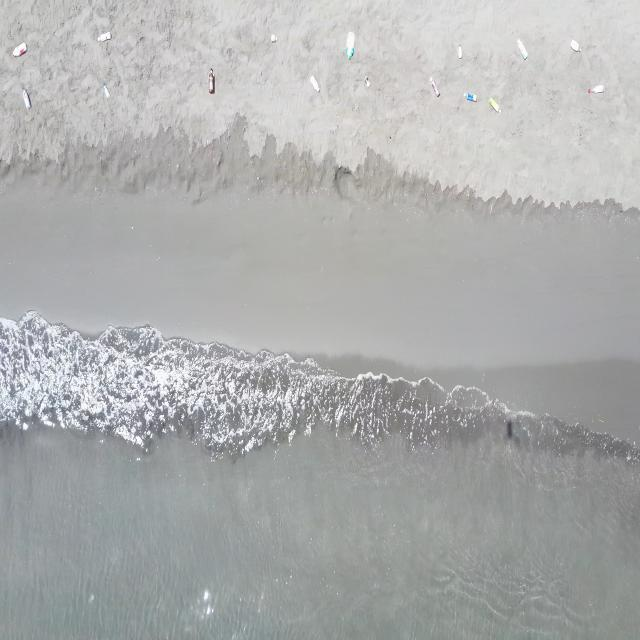Garbage: (517, 39, 527, 59), (346, 32, 353, 59), (12, 42, 26, 55), (308, 75, 319, 91), (487, 98, 500, 111), (431, 76, 439, 96), (23, 88, 30, 108), (587, 84, 603, 92), (207, 68, 212, 92), (569, 40, 579, 51), (464, 91, 476, 100), (96, 32, 110, 39), (456, 44, 462, 59), (103, 83, 108, 96), (364, 75, 368, 87), (272, 32, 276, 43)
